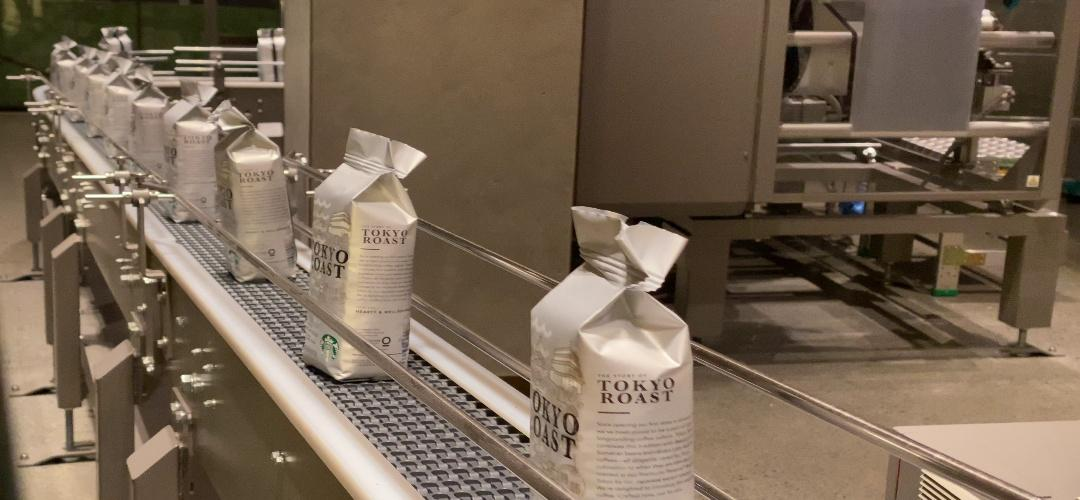conveyor: (529, 306, 695, 473), (313, 188, 416, 298), (215, 149, 297, 226)
